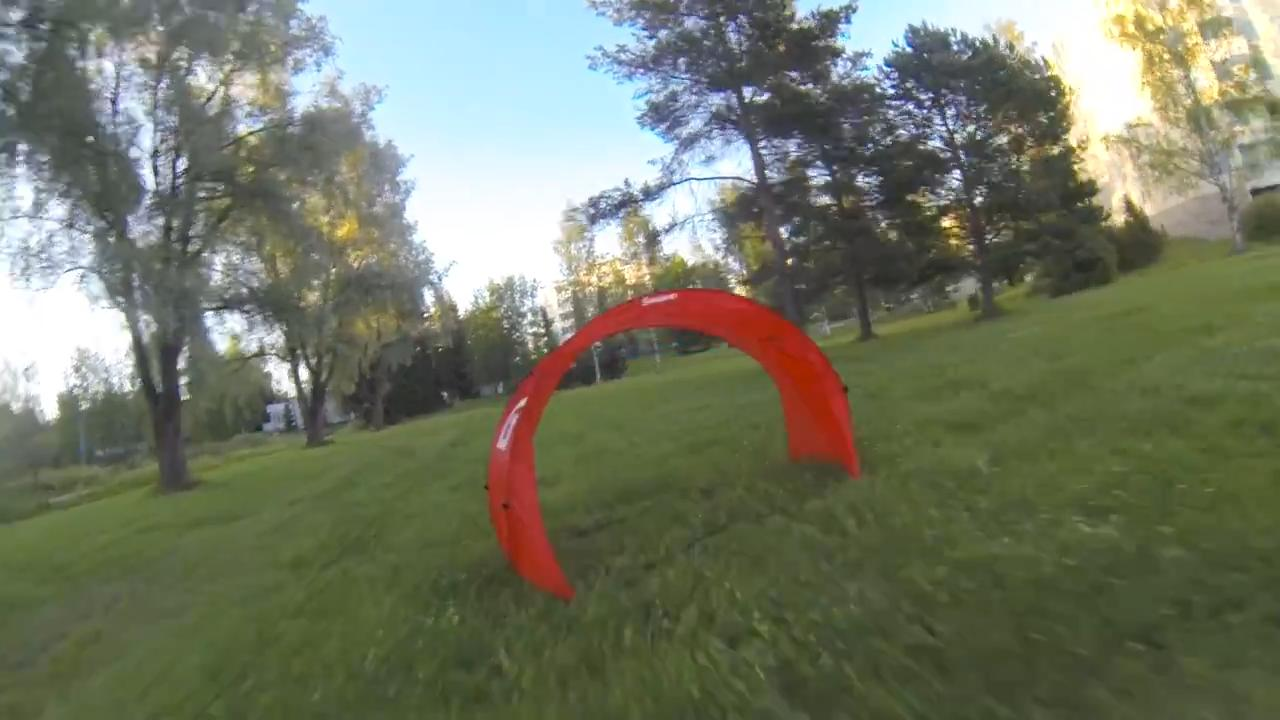gate: (485, 288, 863, 599)
